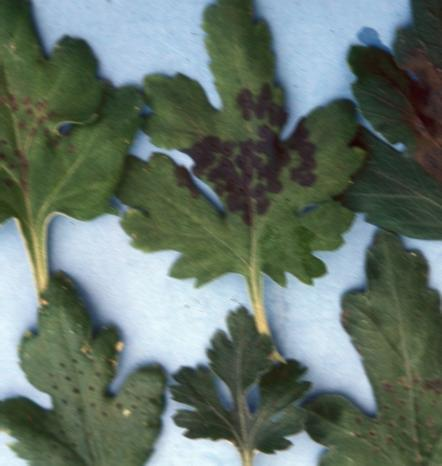Tomato leaf bacterial spot: (0, 0, 152, 286), (286, 213, 442, 466), (0, 249, 168, 466), (166, 311, 307, 466)
